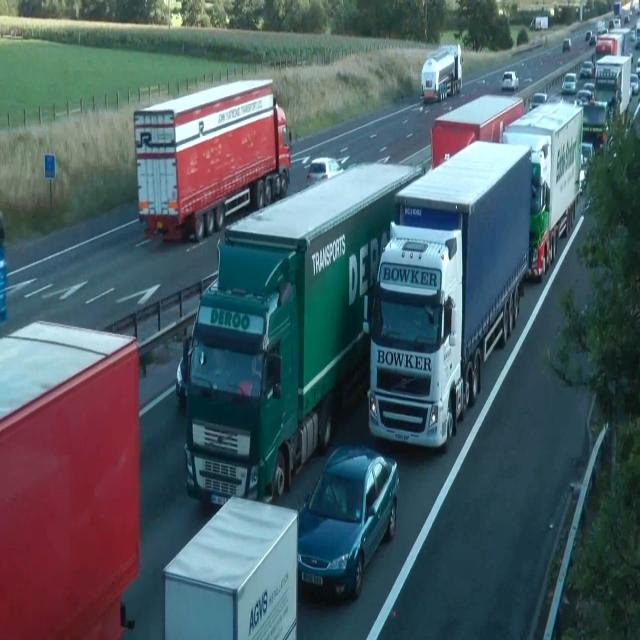bus: (297, 444, 399, 601), (306, 156, 344, 186), (0, 211, 8, 326), (579, 141, 595, 194), (175, 354, 188, 404), (528, 92, 548, 111), (500, 70, 518, 91), (581, 141, 595, 168), (574, 88, 593, 107), (561, 72, 577, 93), (580, 60, 594, 78), (630, 73, 639, 95), (596, 20, 608, 36), (583, 82, 595, 96), (630, 0, 640, 14), (563, 38, 571, 52), (585, 30, 593, 44), (587, 33, 596, 45), (629, 27, 635, 41), (636, 57, 640, 78), (612, 17, 620, 27)
car: (364, 220, 464, 450)
minibus: (177, 160, 424, 508), (364, 138, 532, 450), (0, 318, 140, 639), (133, 77, 291, 243), (162, 494, 298, 639), (499, 100, 584, 282), (430, 93, 524, 170), (594, 53, 632, 127), (421, 43, 464, 103), (593, 27, 637, 76), (574, 98, 610, 154), (529, 16, 549, 30)
